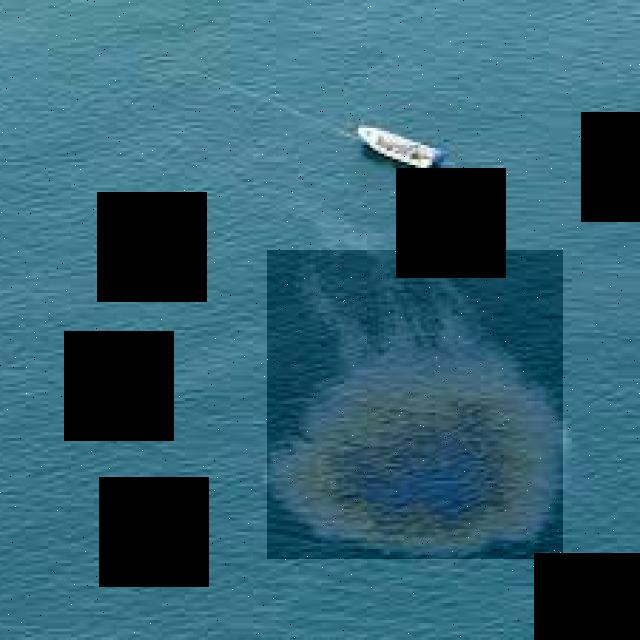oil spill: (268, 250, 563, 559)
